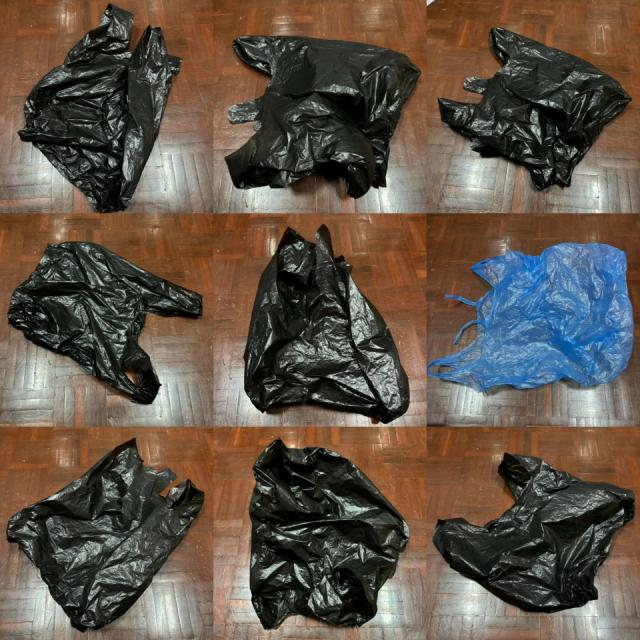Single-layer Plastic: (8, 439, 204, 631), (19, 4, 181, 212), (244, 225, 410, 422), (432, 454, 634, 612), (225, 35, 420, 198), (8, 241, 202, 403), (439, 28, 631, 189), (428, 242, 634, 391), (249, 439, 409, 629)
